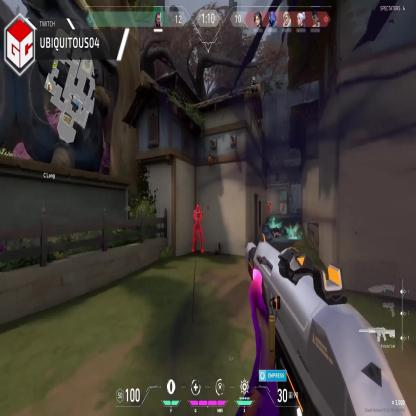enemy: (192, 204, 204, 253), (266, 201, 270, 217), (282, 202, 284, 216)
enemy_head: (196, 204, 200, 211), (268, 200, 270, 204), (282, 202, 284, 206)
